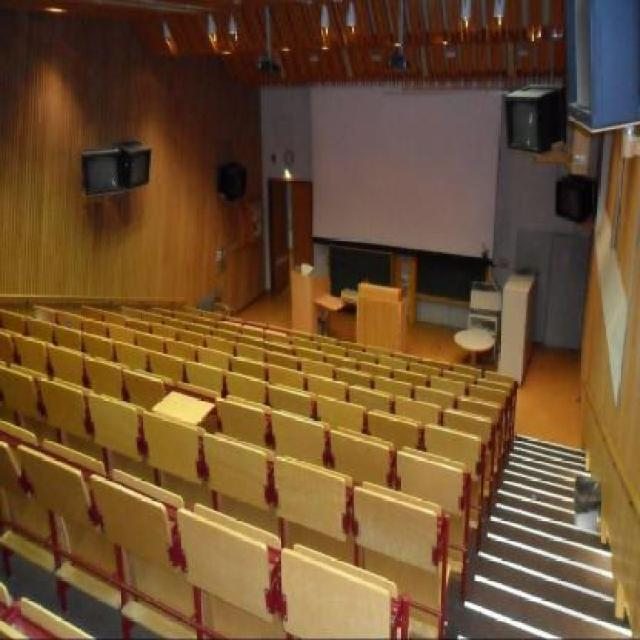stair: (452, 432, 632, 640)
